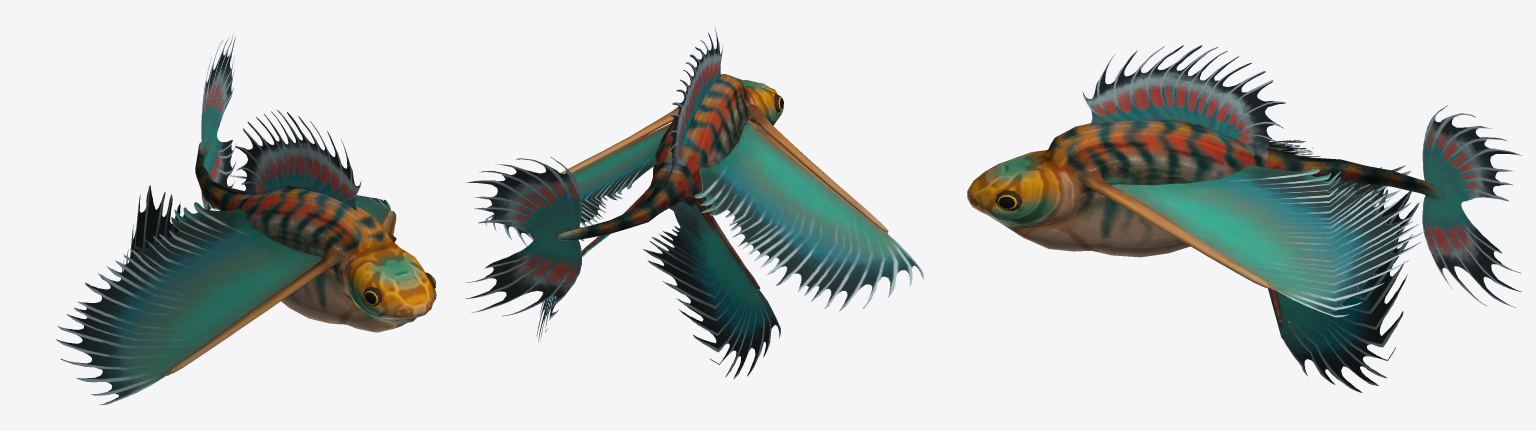
The model's file is fish_000038.obj.
3 views of the same model, side by side, from view 1: azimuth 30°, elevation 25°; view 2: azimuth 150°, elevation 25°; view 3: azimuth 270°, elevation 25° (orthographic). The views are drawn at different scales.
Visible parts, largest first — view 1: flyingFish_low_StingrayPBS1_0; view 2: flyingFish_low_StingrayPBS1_0; view 3: flyingFish_low_StingrayPBS1_0.
Boxes of the visible parts, x1,y1,x2,y2 form: flyingFish_low_StingrayPBS1_0: (56,33,436,405); flyingFish_low_StingrayPBS1_0: (465,27,923,379); flyingFish_low_StingrayPBS1_0: (967,45,1521,392).
Bounding box in the file's own units: 16.86 × 13.26 × 18.86.
Materials: 1 (1 with a texture image).
